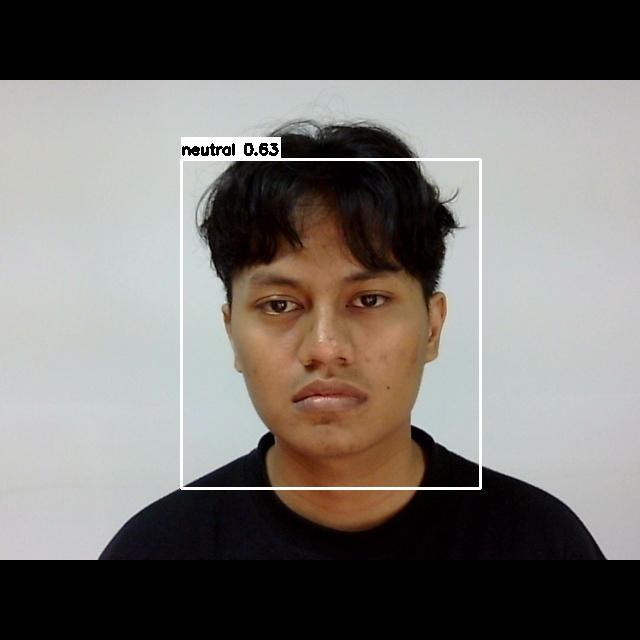Natural: (238, 248, 414, 438)
